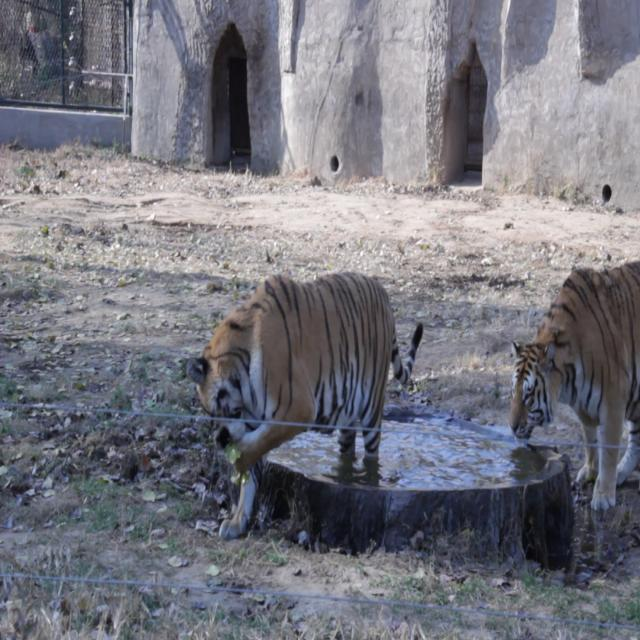Tiger: (185, 236, 433, 534), (501, 252, 640, 528)
